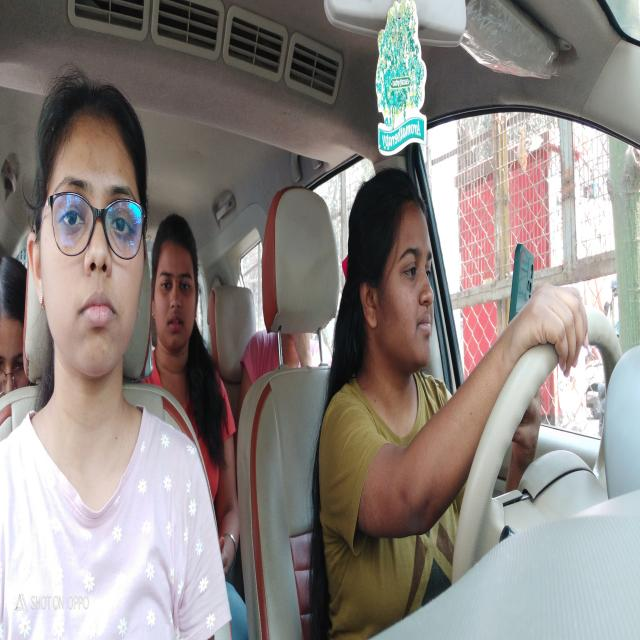mobile: (504, 234, 546, 353)
person: (29, 50, 154, 409), (350, 167, 448, 383), (148, 196, 207, 389), (1, 232, 43, 408)
